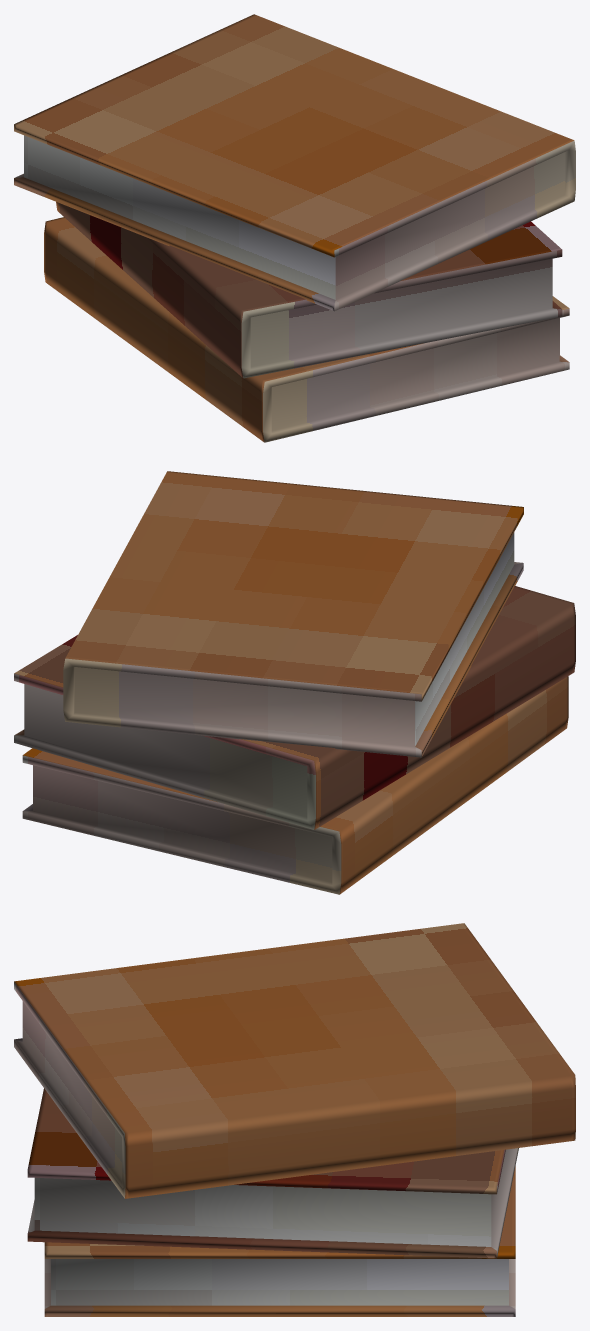
Rendered from a_sch_entrance01_obj_book06.gltf.
3 renders of one model, top to bottom at view 1: azimuth 30°, elevation 25°; view 2: azimuth 150°, elevation 25°; view 3: azimuth 270°, elevation 25°, orthographic. The views are drawn at different scales.
Parts seen in each view (by area): view 1: a_sch_entrance01_obj_book06_mesh_shape:a_sch_office01_shelfb; view 2: a_sch_entrance01_obj_book06_mesh_shape:a_sch_office01_shelfb; view 3: a_sch_entrance01_obj_book06_mesh_shape:a_sch_office01_shelfb.
Part boxes in pixels (<box>): a_sch_entrance01_obj_book06_mesh_shape:a_sch_office01_shelfb: <box>14,14,575,442</box>; a_sch_entrance01_obj_book06_mesh_shape:a_sch_office01_shelfb: <box>14,471,575,894</box>; a_sch_entrance01_obj_book06_mesh_shape:a_sch_office01_shelfb: <box>14,923,575,1316</box>.
Size of the model in its own units: 0.3658 by 0.1654 by 0.4093.
1 material, 1 textured.
